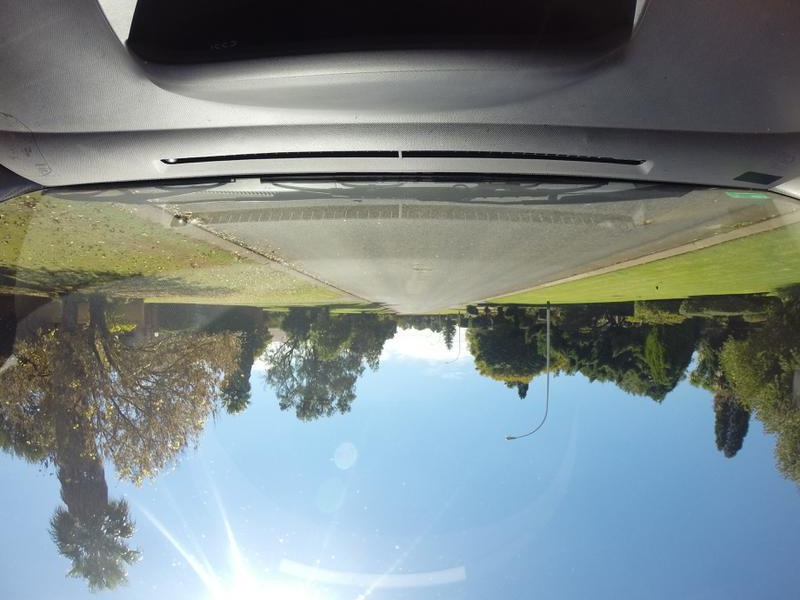pothole: (411, 256, 449, 278)
